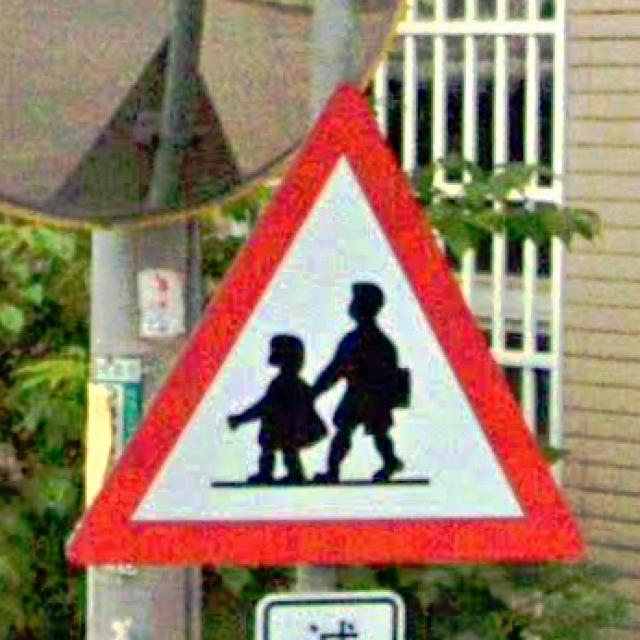childrencross: (68, 85, 590, 565)
